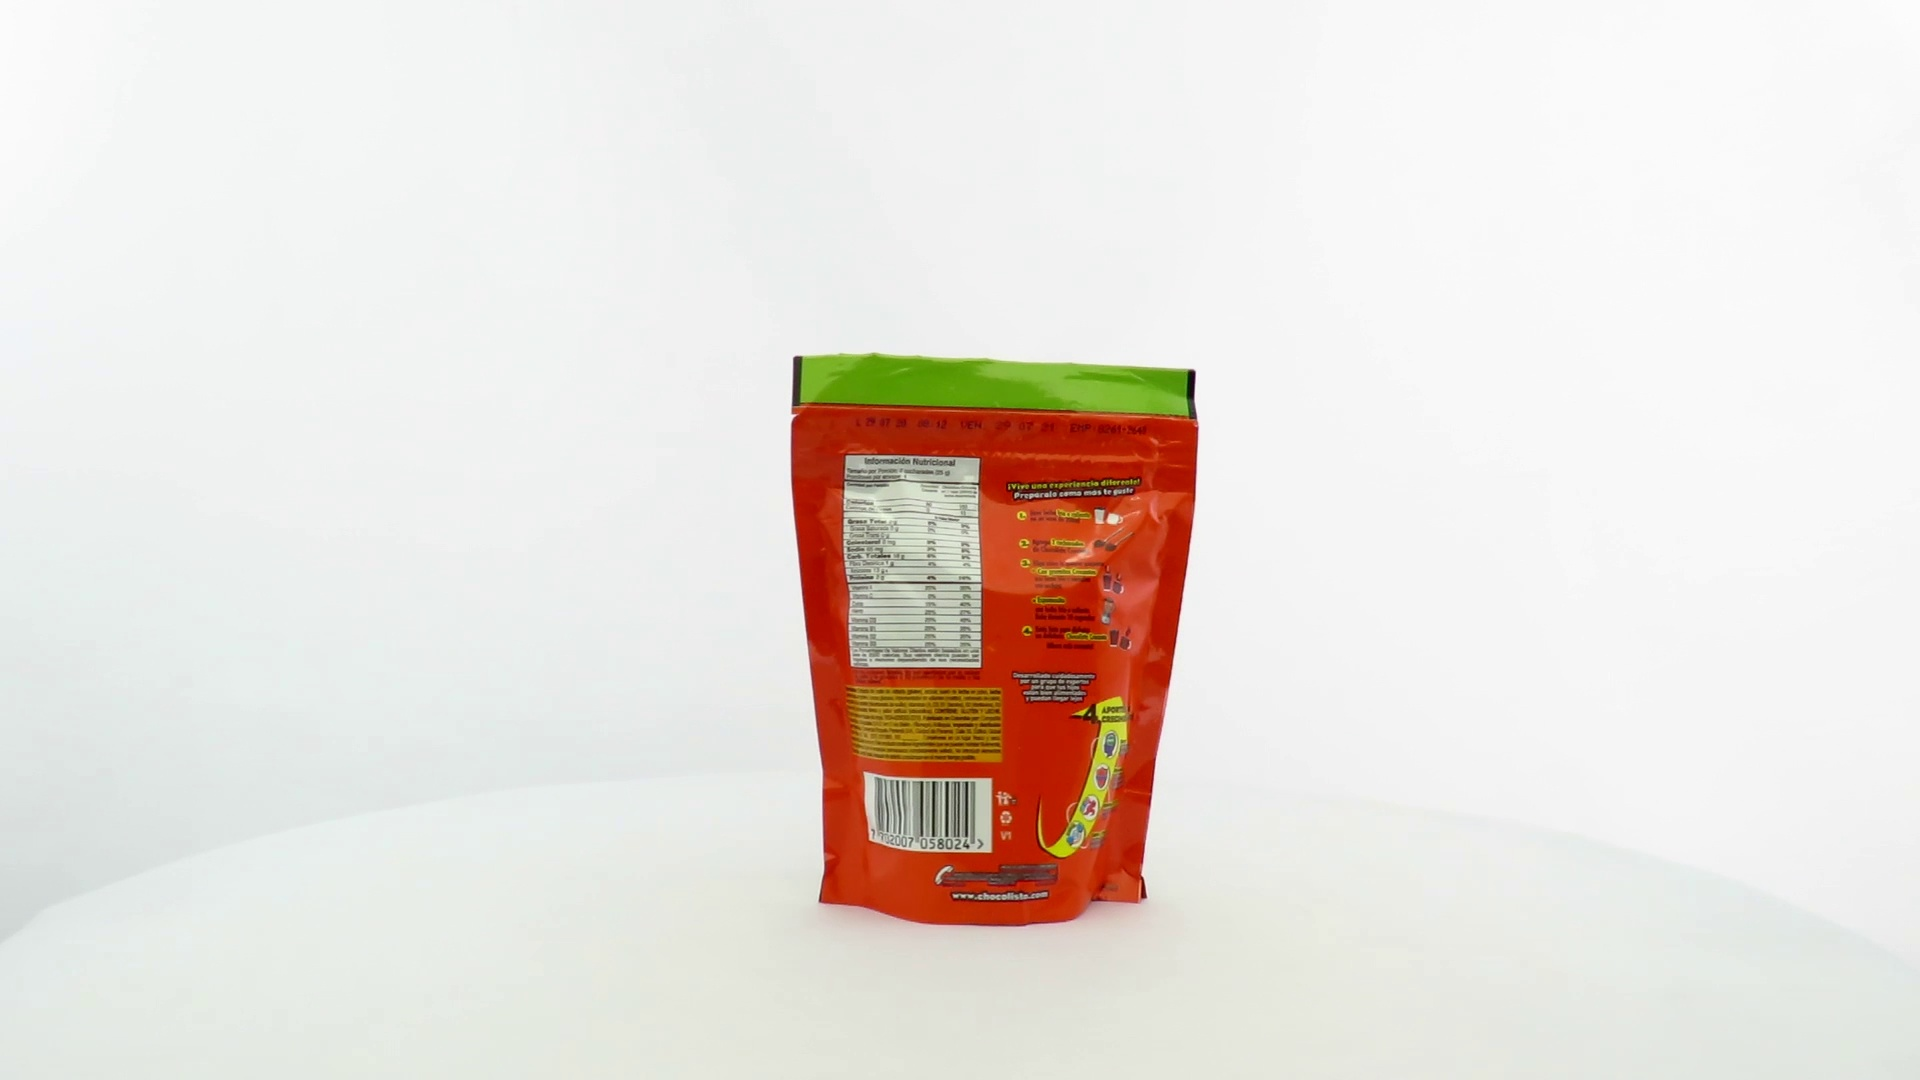COL0170102DYP10000: (785, 347, 1205, 934)
